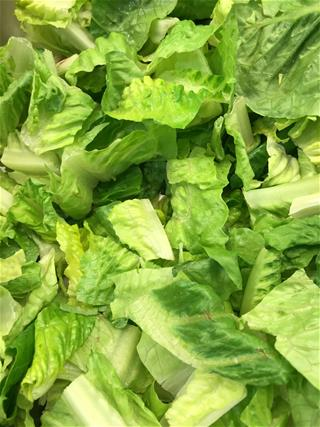chopped lettuce: (10, 12, 311, 416)
